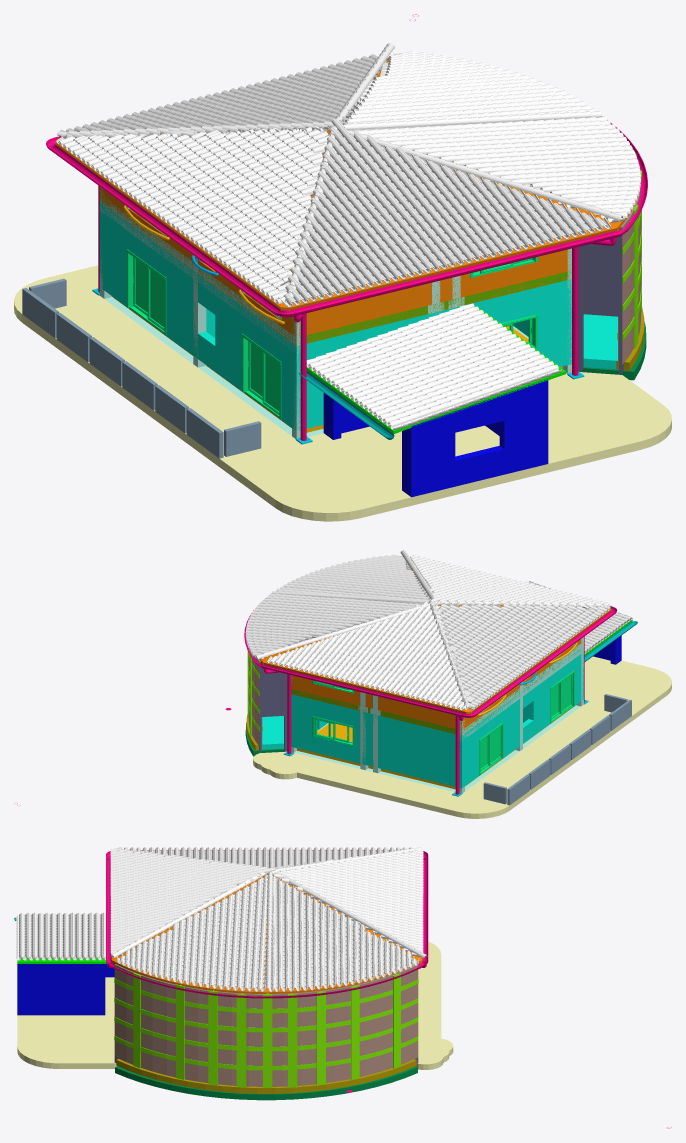
The model's file is progetto palazzina modellino.glb.
The picture shows the model from 3 angles, top to bottom: view 1: azimuth 30°, elevation 25°; view 2: azimuth 150°, elevation 25°; view 3: azimuth 270°, elevation 25°; orthographic projection. The views are drawn at different scales.
Parts seen in each view (by area): view 1: Layer:pavimentazione esterna, Obj_Layer:pareti primo piano, Obj_Layer:pareti garage, Obj_Layer:pareti piano 2°, Layer:muretti balconata, Obj_Layer:grondaia, Obj_Layer:travi pilastri, Block:muretti, Layer:Layer2, Obj_Layer:solaio1, Layer:parquet scale, Layer:444 (+4 smaller); view 2: Layer:pavimentazione esterna, Obj_Layer:pareti primo piano, Obj_Layer:travi pilastri, Layer:muretti balconata, Obj_Layer:grondaia, Obj_Layer:pareti piano 2°, Block:muretti, Layer:Layer2, Obj_Layer:solaio1, Layer:parquet I piano, Layer:parquet scale, Layer:444 (+2 smaller); view 3: Layer:444, Obj_Layer:3333, Layer:pavimentazione esterna, Obj_Layer:pareti garage, Obj_Layer:basamento vetrata, Layer:basamento ingresso, Obj_Layer:grondaia, Layer:Layer2, Obj_Layer:tetto garage.
Part boxes in pixels (x1,y1,x2,y2): Layer:pavimentazione esterna: [14, 265, 671, 521]; Obj_Layer:pareti primo piano: [99, 202, 571, 430]; Obj_Layer:pareti garage: [323, 379, 548, 497]; Obj_Layer:pareti piano 2°: [99, 187, 571, 344]; Layer:muretti balconata: [22, 278, 261, 458]; Obj_Layer:grondaia: [46, 58, 647, 440]; Obj_Layer:travi pilastri: [99, 187, 571, 438]; Block:muretti: [578, 235, 623, 373]; Layer:Layer2: [55, 58, 635, 311]; Obj_Layer:solaio1: [100, 194, 571, 345]; Layer:parquet scale: [583, 314, 617, 369]; Layer:444: [618, 183, 640, 364]; Layer:pavimentazione esterna: [253, 656, 671, 818]; Obj_Layer:pareti primo piano: [291, 648, 583, 788]; Obj_Layer:travi pilastri: [291, 637, 583, 792]; Layer:muretti balconata: [483, 694, 631, 805]; Obj_Layer:grondaia: [244, 598, 617, 794]; Obj_Layer:pareti piano 2°: [291, 639, 581, 735]; Block:muretti: [259, 667, 287, 752]; Layer:Layer2: [259, 569, 611, 714]; Obj_Layer:solaio1: [291, 648, 577, 734]; Layer:parquet I piano: [297, 705, 575, 789]; Layer:parquet scale: [261, 716, 318, 749]; Layer:444: [248, 654, 262, 746]; Layer:444: [114, 964, 418, 1086]; Obj_Layer:3333: [114, 973, 418, 1087]; Layer:pavimentazione esterna: [17, 941, 453, 1069]; Obj_Layer:pareti garage: [17, 964, 114, 1015]; Obj_Layer:basamento vetrata: [116, 1059, 416, 1093]; Layer:basamento ingresso: [115, 1066, 417, 1100]; Obj_Layer:grondaia: [106, 850, 428, 998]; Layer:Layer2: [111, 873, 422, 993]; Obj_Layer:tetto garage: [17, 919, 106, 963].
Bounding box in the file's own units: 560 × 195 × 796.
